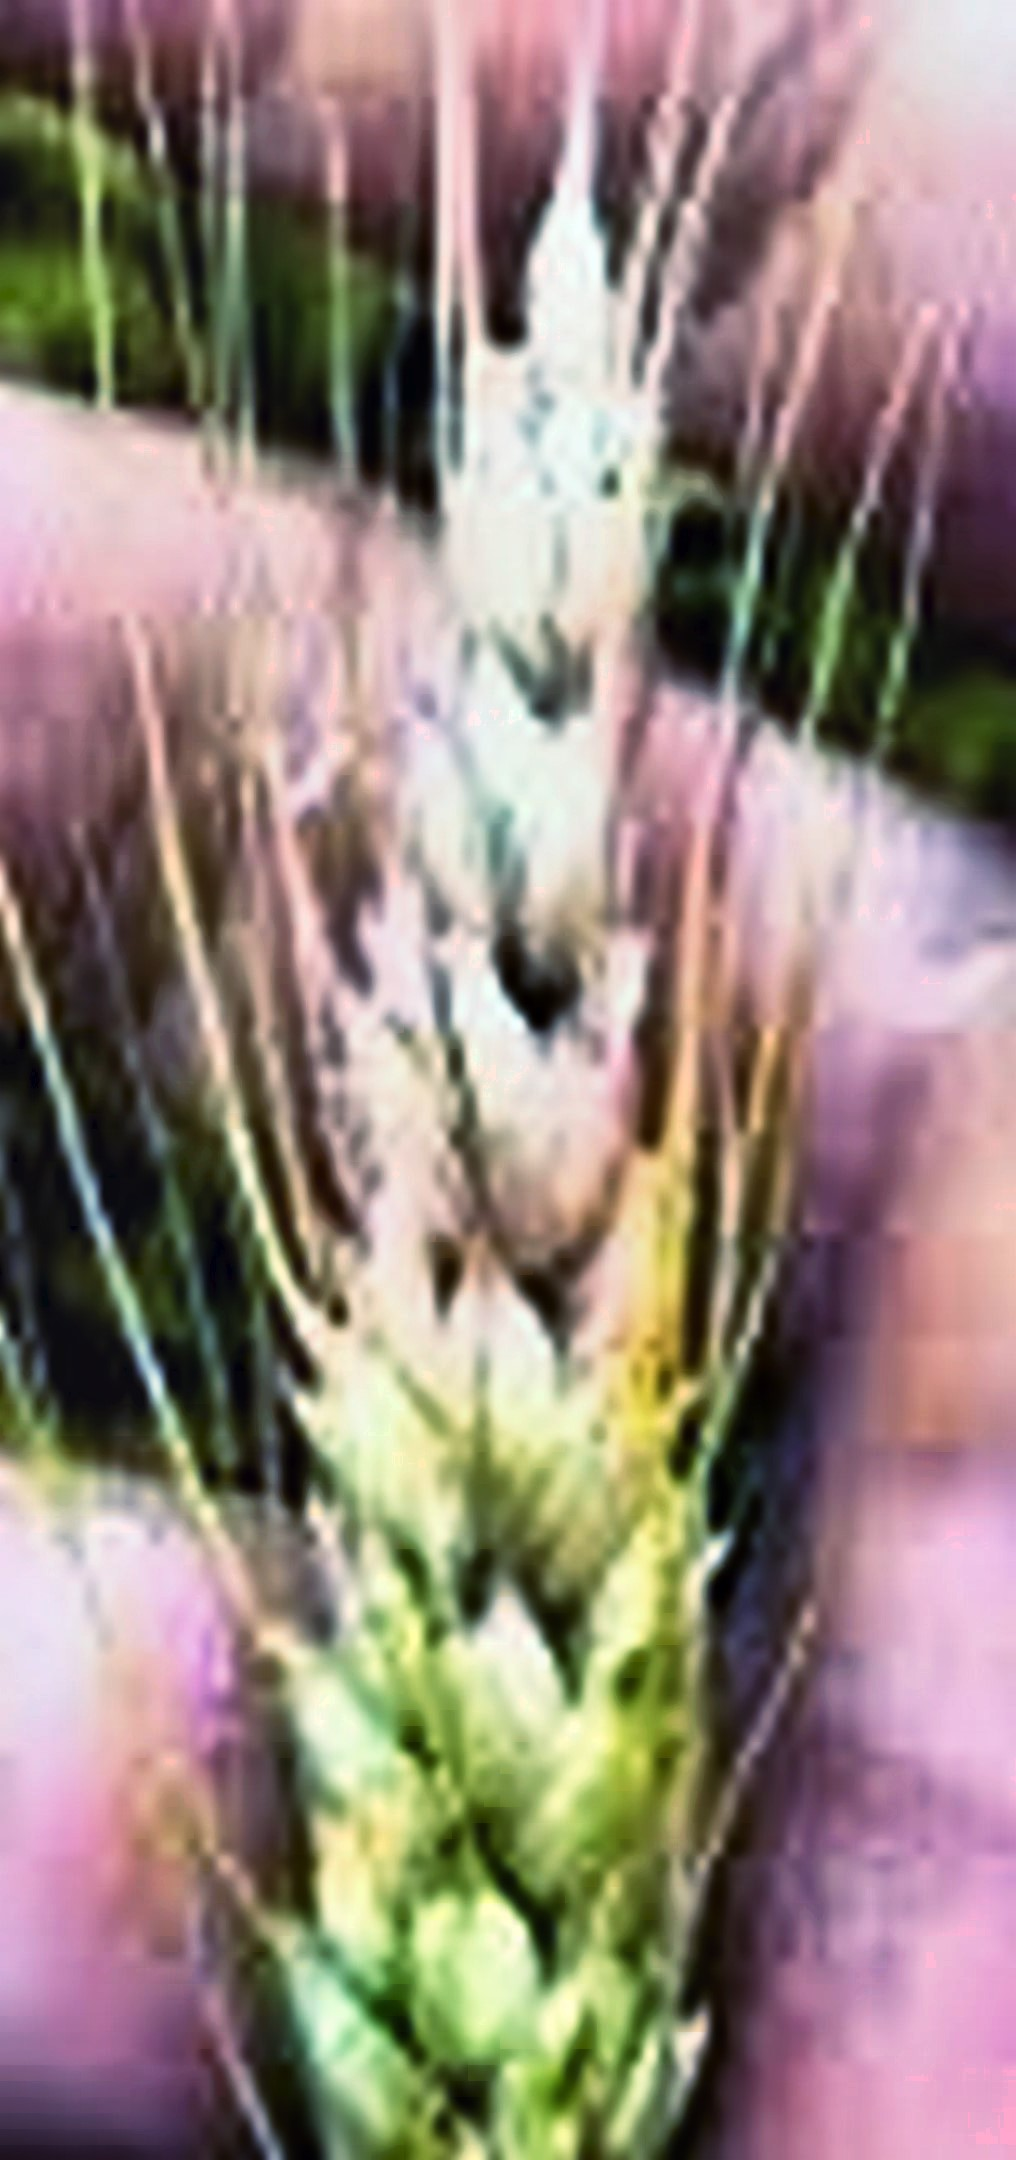Wheat scab: (223, 219, 811, 2160)
